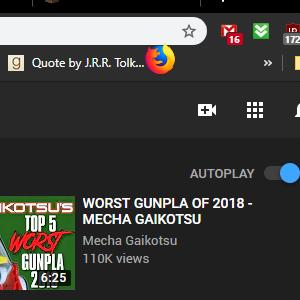firefox: (144, 44, 175, 75)
